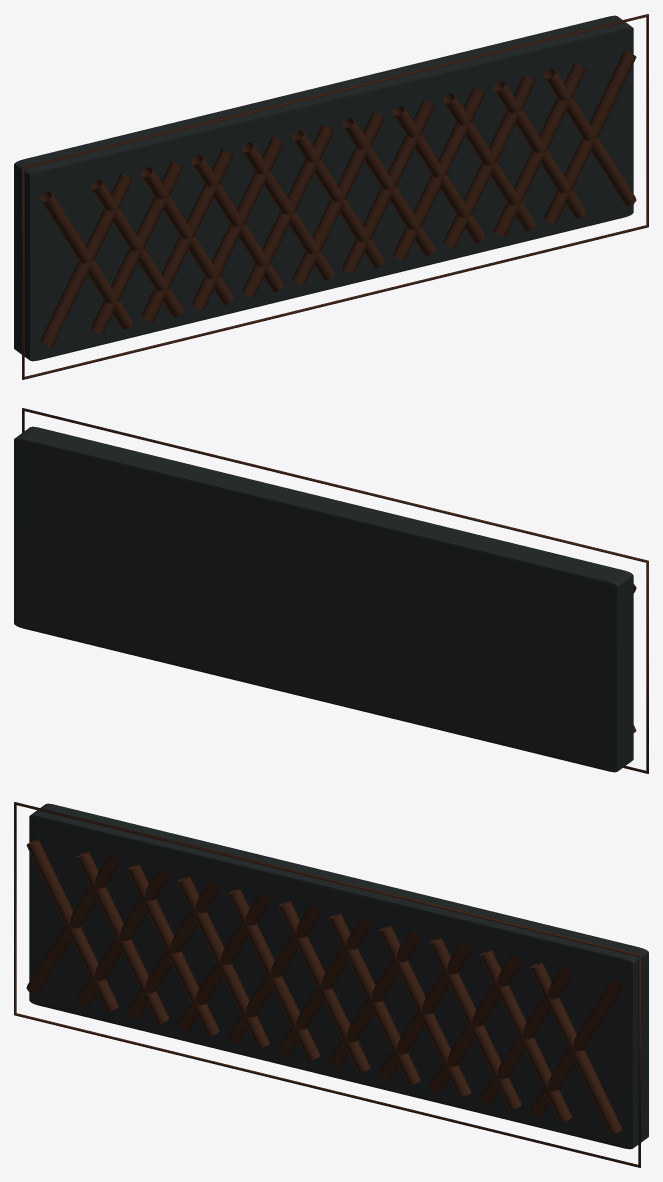
File: Vent_Lattice.fbx
3 views of the same model, one above another, from view 1: azimuth 30°, elevation 25°; view 2: azimuth 150°, elevation 25°; view 3: azimuth 330°, elevation 25° (orthographic).
Visible parts, largest first — view 1: Vent recess.001, Panel moulding.121, Lattice.042, Lattice.022, Lattice.028, Lattice.032, Lattice.024, Lattice.034, Lattice.038, Lattice.026, Lattice.036, Lattice.040 (+12 smaller); view 2: Vent recess.001, Panel moulding.121; view 3: Vent recess.001, Panel moulding.121, Lattice.023, Lattice.043, Lattice.037, Lattice.033, Lattice.031, Lattice.041, Lattice.027, Lattice.039, Lattice.029, Lattice.025 (+12 smaller).
Part boxes in pixels (x1=…): Vent recess.001: x1=14, y1=15, x2=633, y2=361; Panel moulding.121: x1=22, y1=14, x2=648, y2=379; Lattice.042: x1=544, y1=51, x2=636, y2=224; Lattice.022: x1=40, y1=174, x2=132, y2=347; Lattice.028: x1=191, y1=137, x2=283, y2=310; Lattice.032: x1=292, y1=112, x2=384, y2=285; Lattice.024: x1=90, y1=161, x2=183, y2=334; Lattice.034: x1=342, y1=100, x2=434, y2=273; Lattice.038: x1=443, y1=75, x2=535, y2=248; Lattice.026: x1=141, y1=149, x2=233, y2=322; Lattice.036: x1=393, y1=88, x2=485, y2=261; Lattice.040: x1=493, y1=63, x2=585, y2=236; Vent recess.001: x1=14, y1=426, x2=633, y2=772; Panel moulding.121: x1=22, y1=408, x2=648, y2=773; Vent recess.001: x1=29, y1=803, x2=648, y2=1149; Panel moulding.121: x1=14, y1=802, x2=640, y2=1167; Lattice.023: x1=26, y1=839, x2=118, y2=1012; Lattice.043: x1=530, y1=962, x2=622, y2=1135; Lattice.037: x1=379, y1=925, x2=471, y2=1098; Lattice.033: x1=278, y1=900, x2=370, y2=1073; Lattice.031: x1=228, y1=888, x2=320, y2=1061; Lattice.041: x1=479, y1=949, x2=572, y2=1122; Lattice.027: x1=127, y1=863, x2=219, y2=1036; Lattice.039: x1=429, y1=937, x2=521, y2=1110; Lattice.029: x1=177, y1=876, x2=269, y2=1049; Lattice.025: x1=77, y1=851, x2=169, y2=1024.
Bounding box in the file's own units: 1.24 × 0.4042 × 0.0895.
